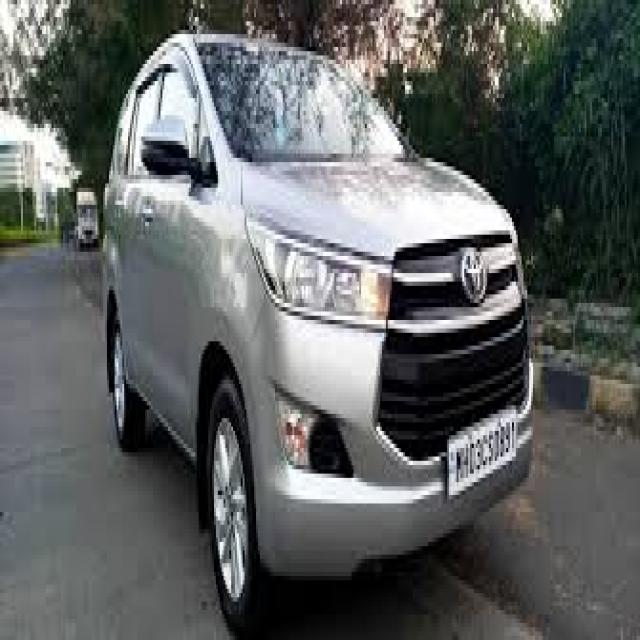light_vehicle: (102, 31, 536, 634)
